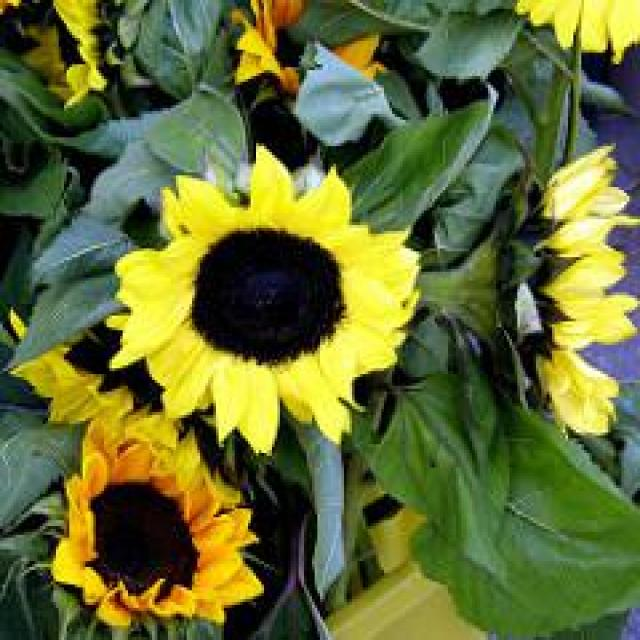sunflower: (112, 146, 422, 450), (0, 308, 239, 502), (58, 438, 266, 636), (522, 143, 640, 432), (221, 2, 385, 94), (3, 0, 101, 105), (517, 0, 640, 58)
